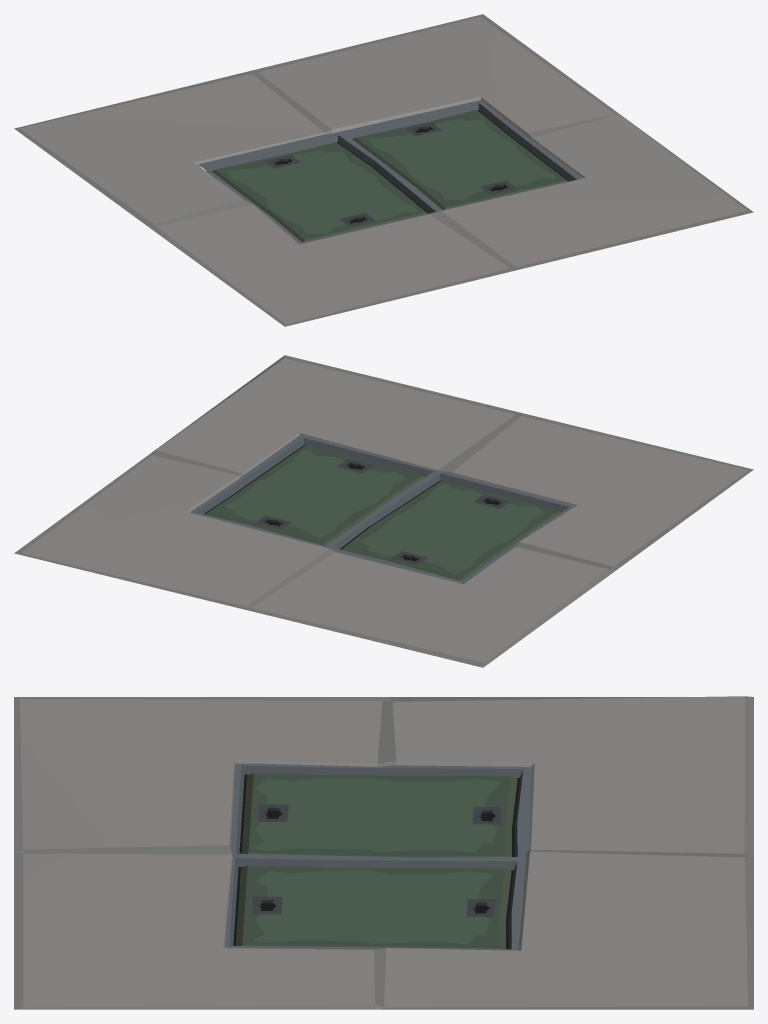
File: SM_Env_Sidewalk_Panel_02.glb
3 views of the same model, one above another, from view 1: azimuth 30°, elevation 25°; view 2: azimuth 150°, elevation 25°; view 3: azimuth 270°, elevation 25° (orthographic). The views are drawn at different scales.
Visible parts, largest first — view 1: SM_Env_Sidewalk_Panel_02; view 2: SM_Env_Sidewalk_Panel_02; view 3: SM_Env_Sidewalk_Panel_02.
Part boxes in pixels (x1,y1,x2,y2): SM_Env_Sidewalk_Panel_02: [14, 14, 753, 326]; SM_Env_Sidewalk_Panel_02: [14, 355, 753, 667]; SM_Env_Sidewalk_Panel_02: [14, 696, 753, 1009].
Size of the model in its own units: 0.05 by 0.000944 by 0.05.
1 material, 1 textured.
